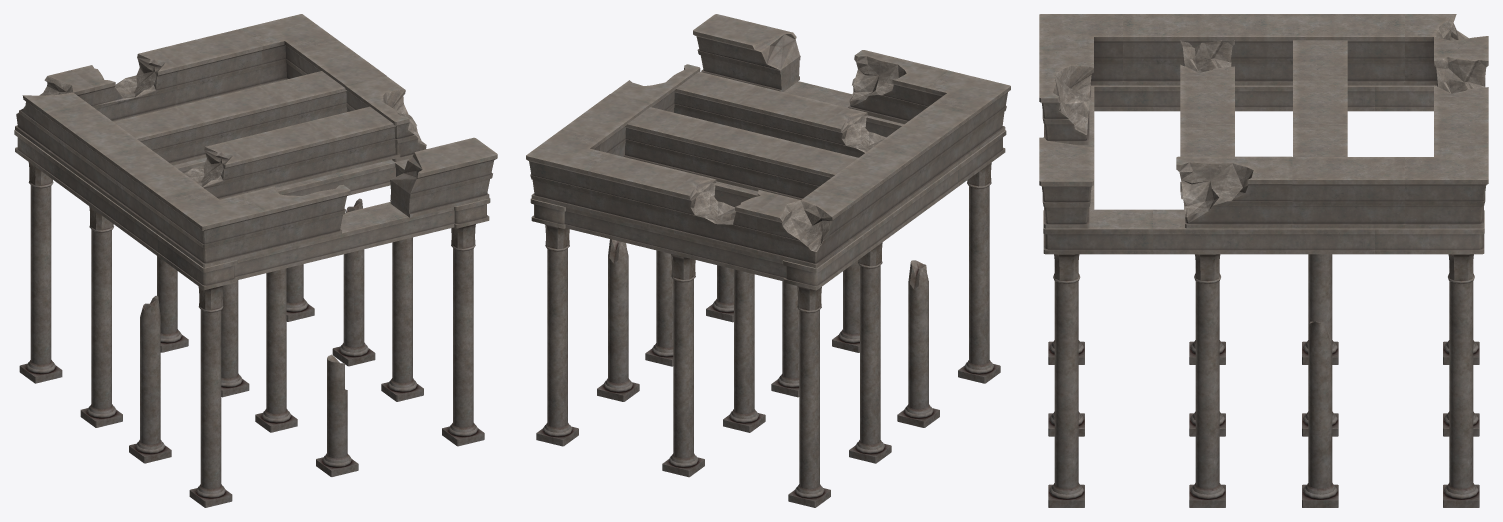
Rendered from sb_obj_outdoor009_AncientTemple_set01.fbx.
The picture shows the model from 3 angles, left to right: view 1: azimuth 30°, elevation 25°; view 2: azimuth 150°, elevation 25°; view 3: azimuth 270°, elevation 25°; orthographic projection. The views are drawn at different scales.
Parts seen in each view (by area): view 1: sb_obj_outdoor009_AncientTemple_set01; view 2: sb_obj_outdoor009_AncientTemple_set01; view 3: sb_obj_outdoor009_AncientTemple_set01.
Boxes of the visible parts, x1=… form: sb_obj_outdoor009_AncientTemple_set01: x1=14, y1=14, x2=497, y2=507; sb_obj_outdoor009_AncientTemple_set01: x1=526, y1=14, x2=1010, y2=507; sb_obj_outdoor009_AncientTemple_set01: x1=1039, y1=14, x2=1488, y2=507.
Bounding box in the file's own units: 10.9 × 10.05 × 12.34.
